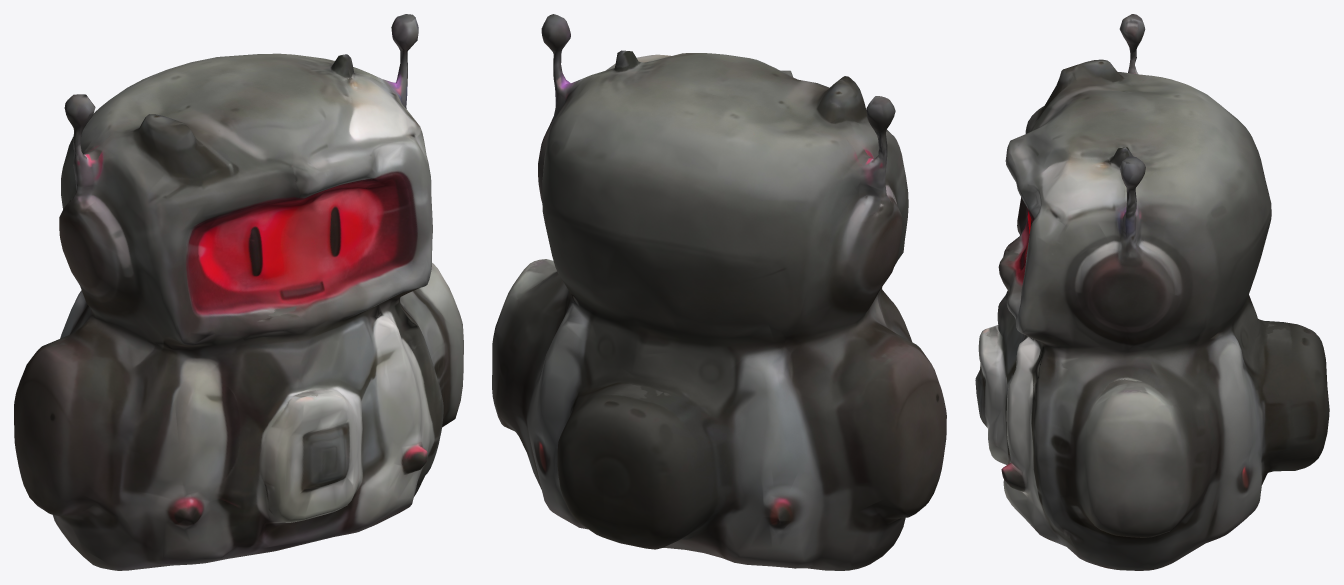
3 views of the same model, side by side, from view 1: azimuth 30°, elevation 25°; view 2: azimuth 150°, elevation 25°; view 3: azimuth 270°, elevation 25° (orthographic). The views are drawn at different scales.
Parts seen in each view (by area): view 1: Mesh_0; view 2: Mesh_0; view 3: Mesh_0.
Boxes of the visible parts, box(x1,y1,x2,y2) form: Mesh_0: box(14, 14, 463, 570); Mesh_0: box(492, 14, 946, 570); Mesh_0: box(975, 14, 1329, 570).
Bounding box in the file's own units: 112 × 120 × 91.25.
Materials: 1 (1 with a texture image).
